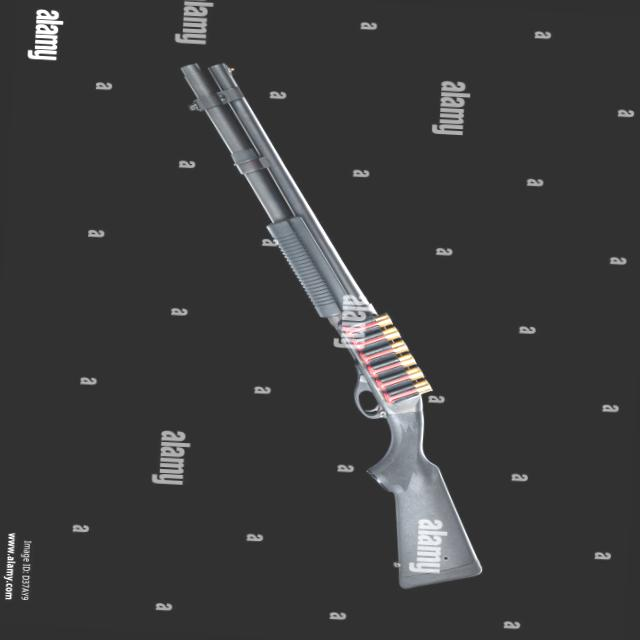long weapon: (128, 24, 532, 607)
